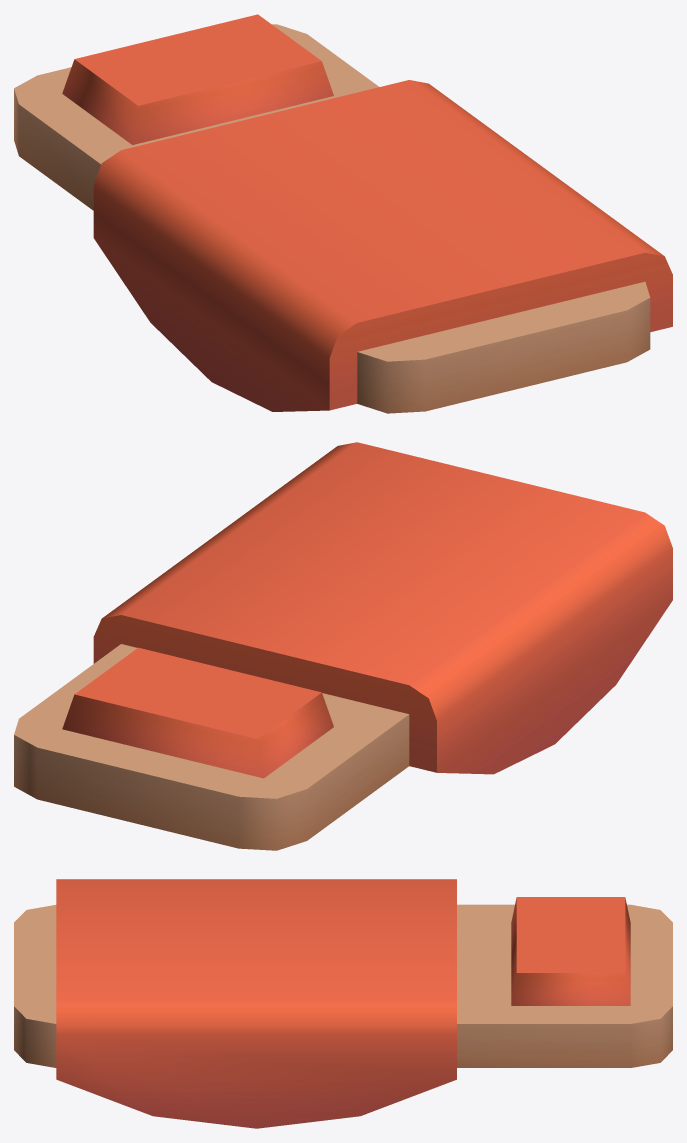
Rendered from k-survival-bedroll.glb.
The picture shows the model from 3 angles, top to bottom: view 1: azimuth 30°, elevation 25°; view 2: azimuth 150°, elevation 25°; view 3: azimuth 270°, elevation 25°; orthographic projection. The views are drawn at different scales.
Visible parts, largest first — view 1: blanket, bedroll; view 2: blanket, bedroll; view 3: blanket, bedroll.
Boxes of the visible parts, box(x1,y1,x2,y2) form: blanket: box(93, 80, 672, 411); bedroll: box(14, 14, 650, 413); blanket: box(93, 442, 672, 774); bedroll: box(14, 644, 409, 850); blanket: box(56, 879, 456, 1128); bedroll: box(14, 897, 672, 1067).
Bounding box in the file's own units: 0.3104 × 0.1248 × 0.6076.
Materials: 1 (1 with a texture image).
